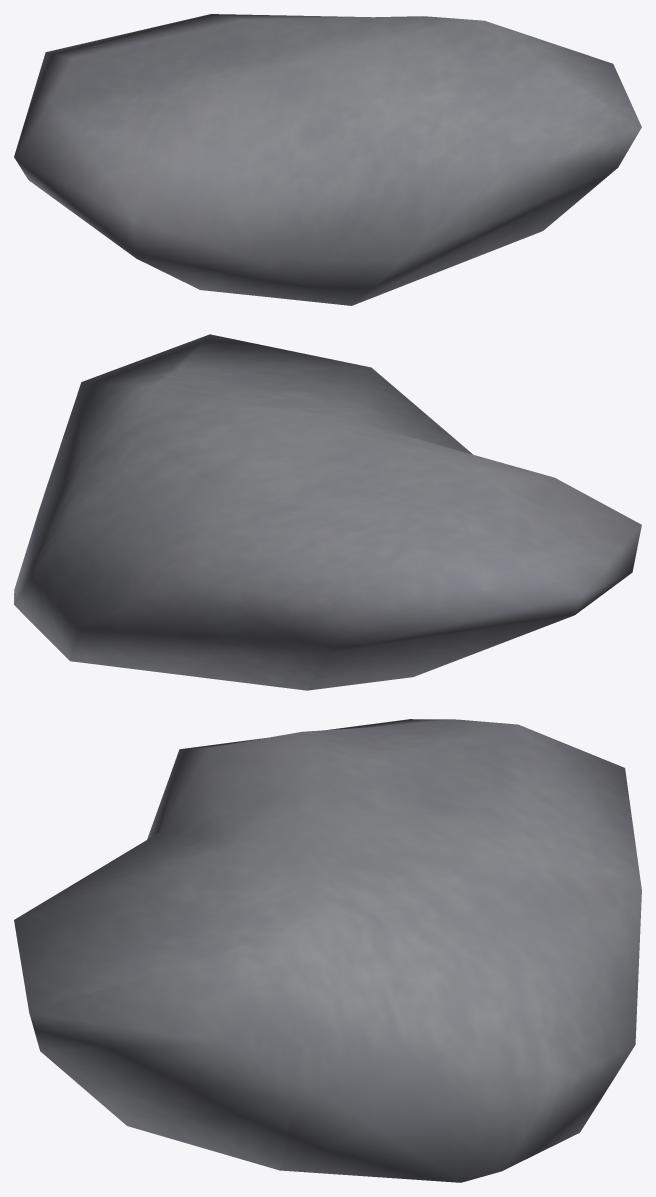
Rendered from Rock.001.fbx.
3 renders of one model, top to bottom at view 1: azimuth 30°, elevation 25°; view 2: azimuth 150°, elevation 25°; view 3: azimuth 270°, elevation 25°, orthographic. The views are drawn at different scales.
Visible parts, largest first — view 1: Rock.001; view 2: Rock.001; view 3: Rock.001.
Part boxes in pixels (x1,y1,x2,y2): Rock.001: (14,14,641,305); Rock.001: (14,334,641,690); Rock.001: (14,719,641,1182).
Size of the model in its own units: 189 by 64.82 by 146.
